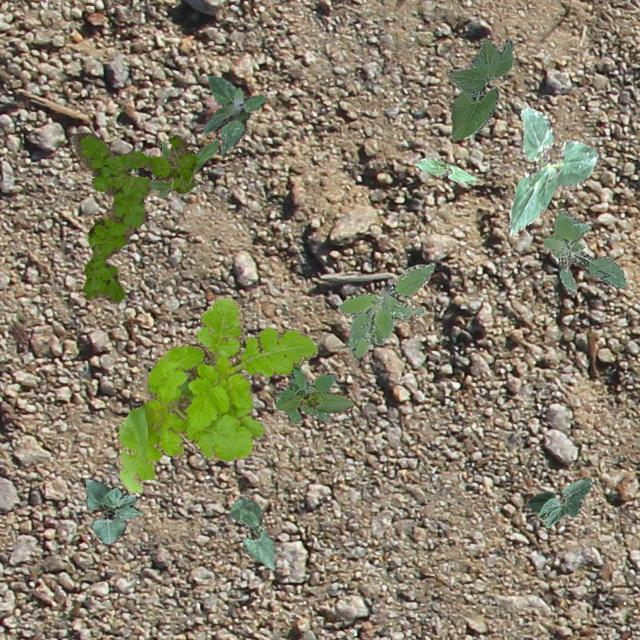crop: (508, 108, 598, 234), (444, 36, 512, 140), (148, 138, 218, 196), (82, 478, 142, 544), (227, 496, 276, 568), (526, 476, 590, 526), (414, 156, 476, 182), (278, 392, 352, 412)
weed: (116, 296, 316, 492), (72, 132, 196, 302), (338, 262, 434, 356), (542, 210, 626, 294), (202, 74, 264, 154), (274, 364, 336, 422)
